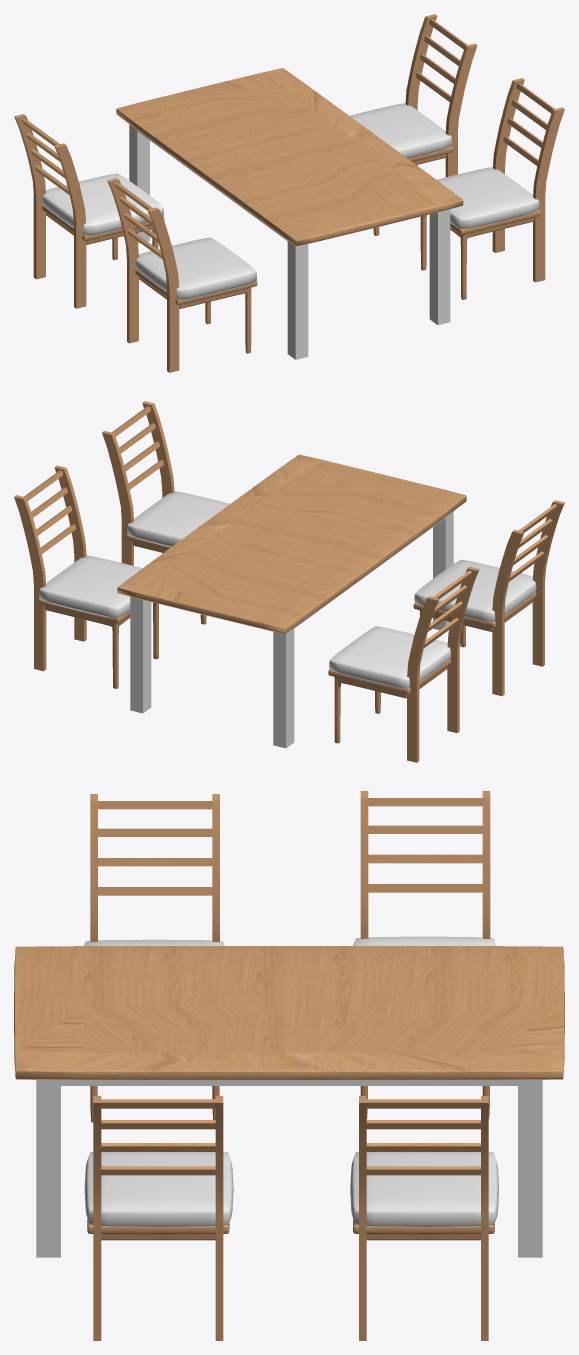
The model's file is table_chair.fbx.
3 views of the same model, one above another, from view 1: azimuth 30°, elevation 25°; view 2: azimuth 150°, elevation 25°; view 3: azimuth 270°, elevation 25° (orthographic). The views are drawn at different scales.
Parts seen in each view (by area): view 1: polySurface2, pasted__group6_pasted__group3_pasted__pasted__pCube4 (×2), pasted__pasted__group6_pasted__group3_pasted__pasted__pCube4, group6_pasted__group3_pasted__pasted__pCube4, polySurface1; view 2: polySurface2, pasted__group6_pasted__group3_pasted__pasted__pCube4 (×2), pasted__pasted__group6_pasted__group3_pasted__pasted__pCube4, group6_pasted__group3_pasted__pasted__pCube4, polySurface1; view 3: polySurface2, pasted__group6_pasted__group3_pasted__pasted__pCube4 (×2), group6_pasted__group3_pasted__pasted__pCube4, polySurface1, pasted__pasted__group6_pasted__group3_pasted__pasted__pCube4.
Boxes of the visible parts, box(x1,y1,x2,y2) form: polySurface2: box(116, 68, 463, 246); pasted__group6_pasted__group3_pasted__pasted__pCube4 (×2): box(107, 78, 564, 372); pasted__pasted__group6_pasted__group3_pasted__pasted__pCube4: box(14, 114, 164, 308); group6_pasted__group3_pasted__pasted__pCube4: box(349, 14, 477, 235); polySurface1: box(129, 124, 450, 359); polySurface2: box(117, 454, 466, 633); pasted__group6_pasted__group3_pasted__pasted__pCube4 (×2): box(102, 401, 564, 696); pasted__pasted__group6_pasted__group3_pasted__pasted__pCube4: box(328, 567, 479, 762); group6_pasted__group3_pasted__pasted__pCube4: box(14, 465, 158, 688); polySurface1: box(130, 511, 453, 748); polySurface2: box(14, 946, 564, 1080); pasted__group6_pasted__group3_pasted__pasted__pCube4 (×2): box(84, 794, 233, 1340); group6_pasted__group3_pasted__pasted__pCube4: box(350, 1096, 499, 1340); polySurface1: box(36, 1080, 542, 1257); pasted__pasted__group6_pasted__group3_pasted__pasted__pCube4: box(353, 791, 495, 1118).
Size of the model in its own units: 15.54 by 5.89 by 11.6.
Materials: 9 (5 with a texture image).
